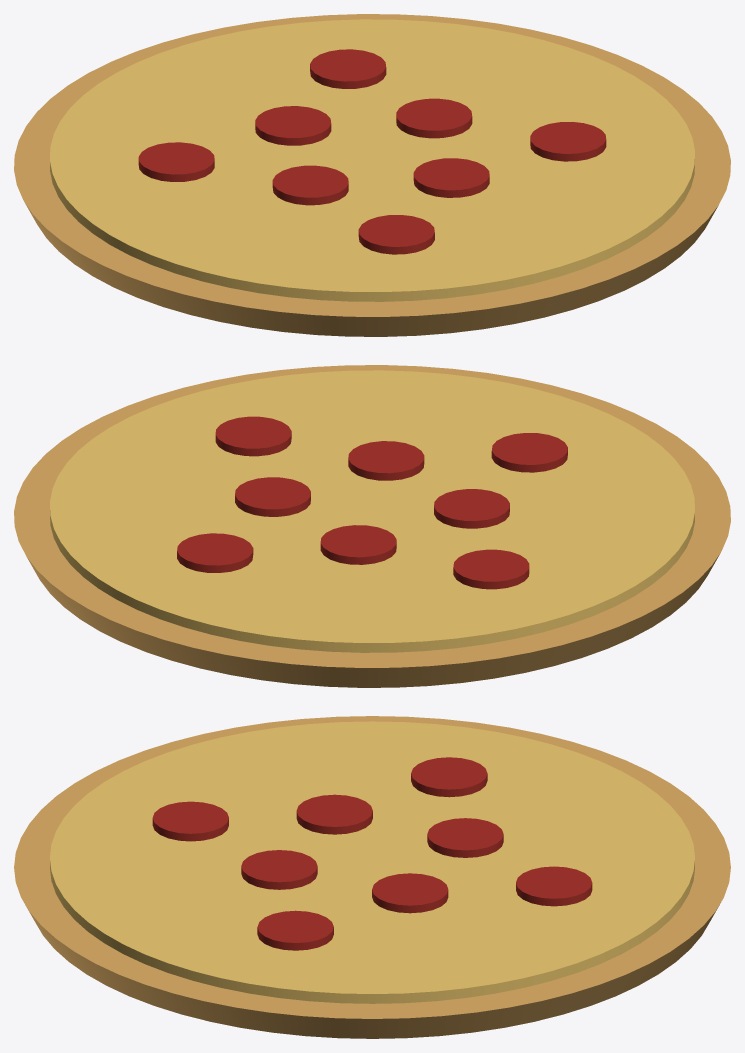
File: pizza-card.glb
The picture shows the model from 3 angles, top to bottom: view 1: azimuth 30°, elevation 25°; view 2: azimuth 150°, elevation 25°; view 3: azimuth 270°, elevation 25°; orthographic projection.
Size of the model in its own units: 0.3 by 0.02 by 0.3.
